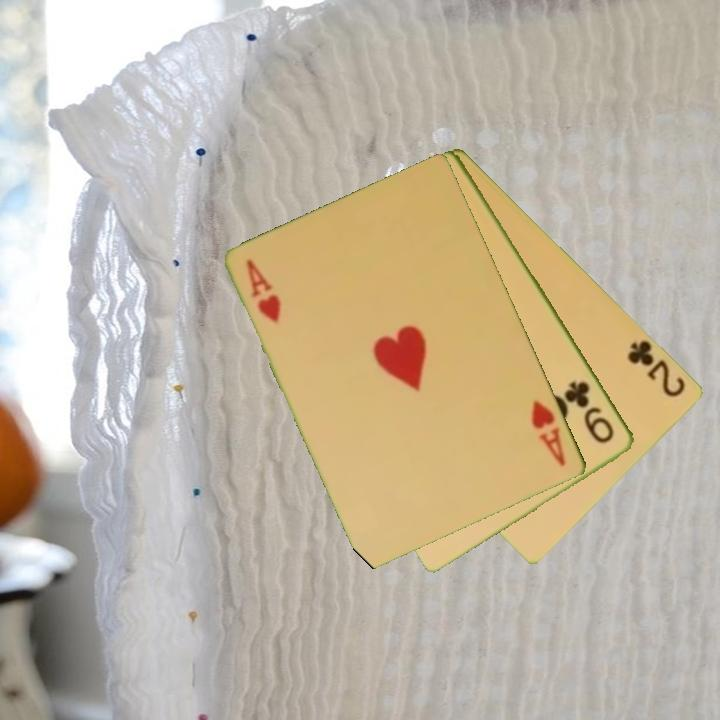2c: (624, 336, 689, 400)
9c: (563, 377, 618, 447)
Ah: (528, 396, 569, 470), (243, 256, 285, 327)
